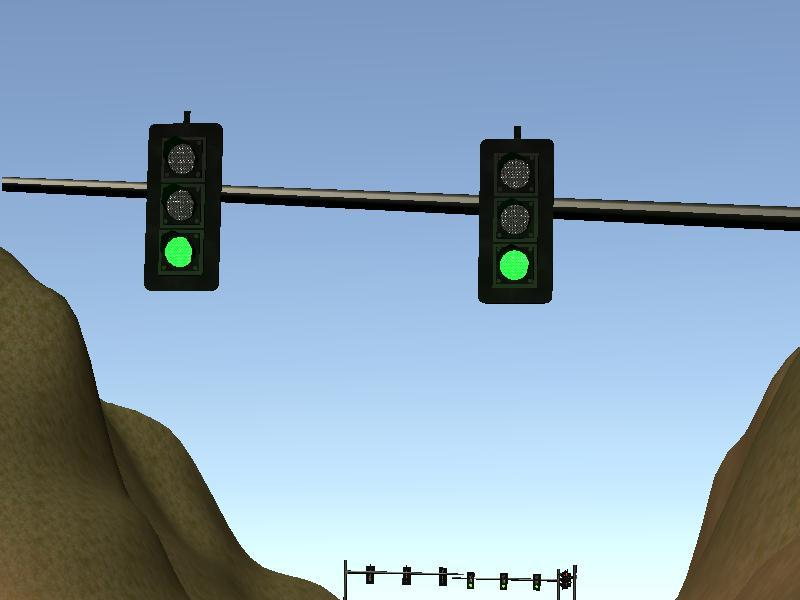Green: (149, 125, 219, 288), (483, 141, 553, 298)
